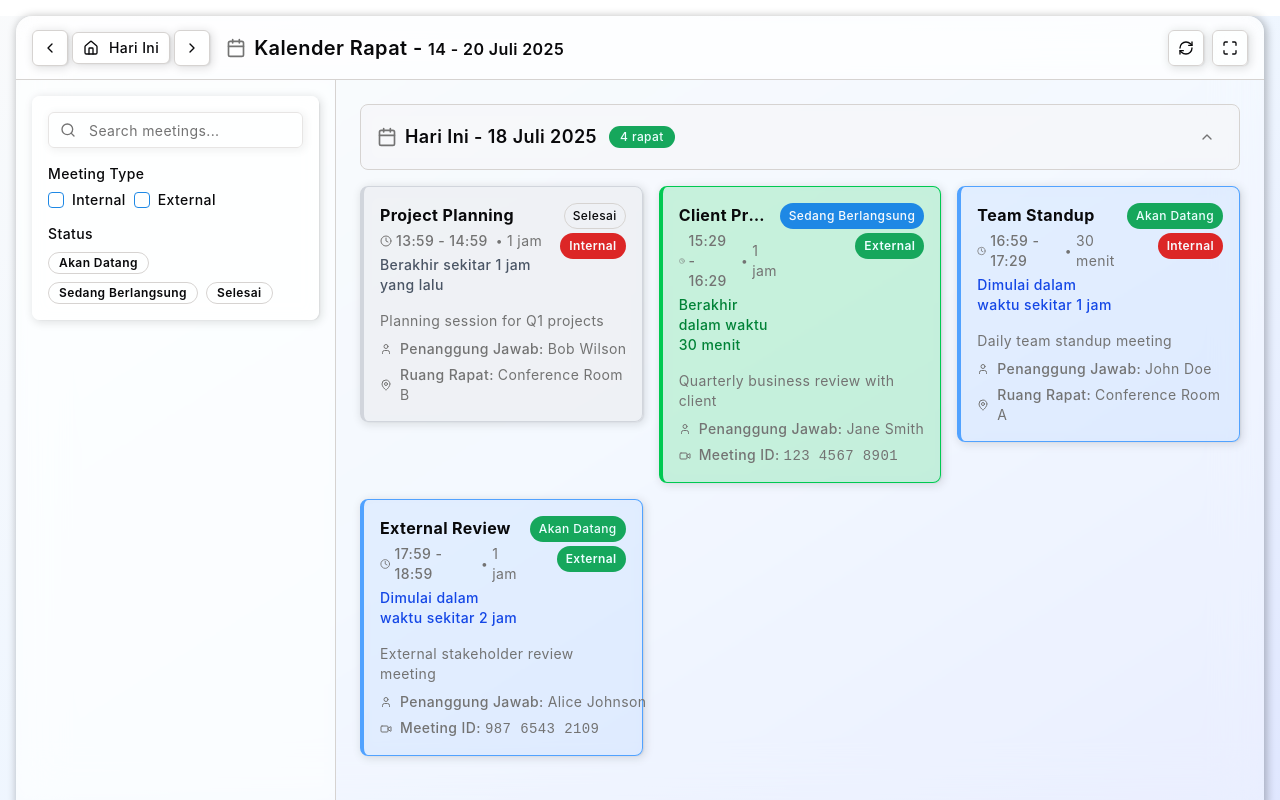
PublicCalendar Integration Tests › Filter Functionality › should filter meetings by type
Expected: the heading "Team Standup" is shown, [977,205,1095,225]
// Find and click the meeting type filter checkbox
Click the 1st checkbox named "Internal". click: (56,200)
box: [48,192,64,208]
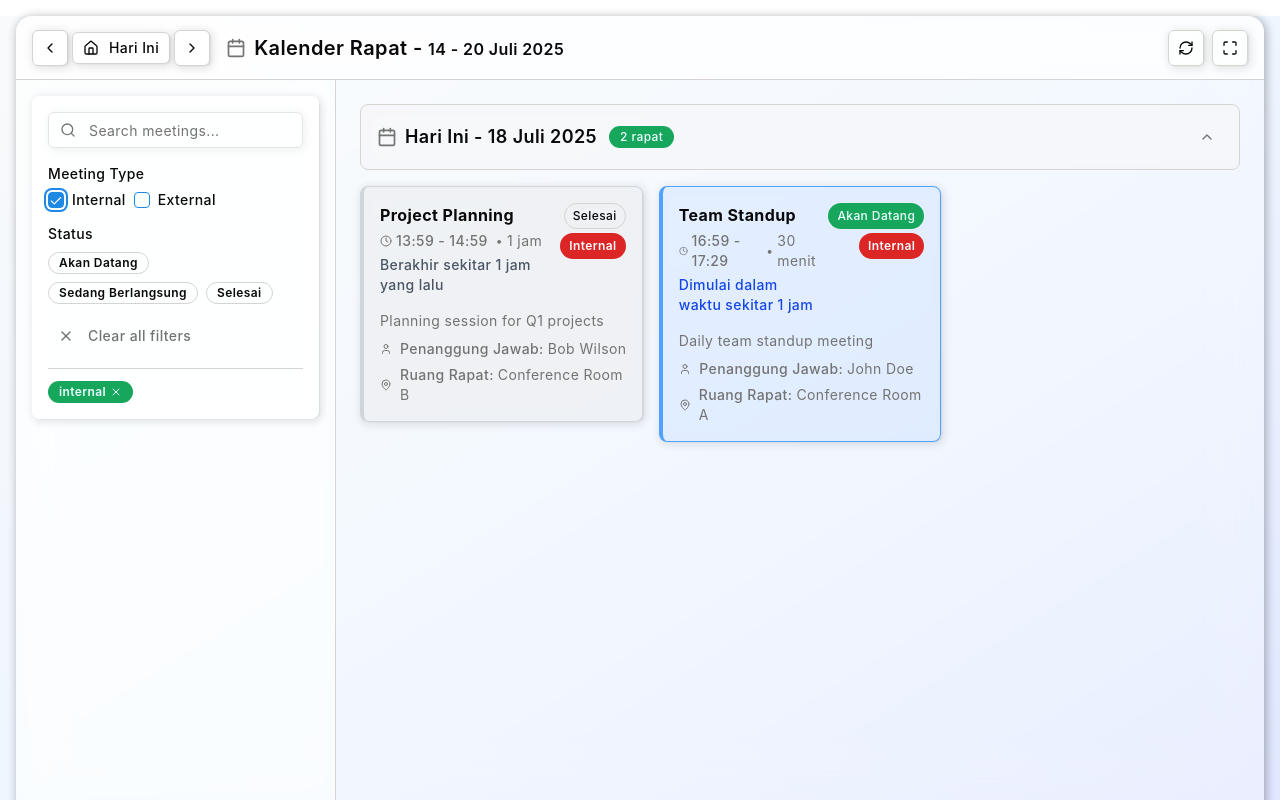
Expected: the heading "Team Standup" is shown, [679,205,796,225]
Now the heading "Client Presentation" is gone
Now the heading "External Review" is gone
